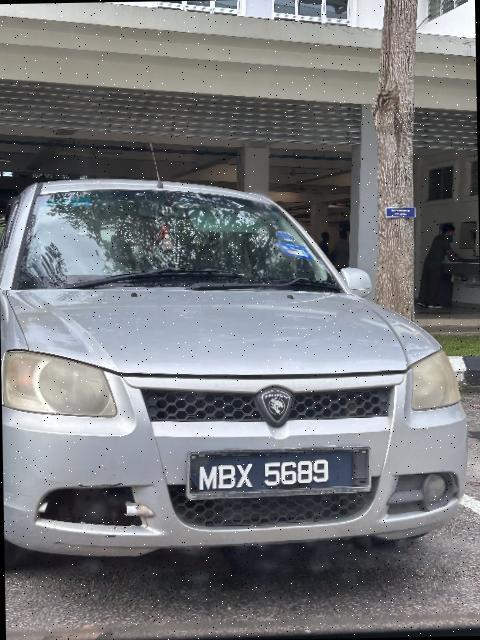License_Plate: (180, 447, 375, 499)
MBX5689: (180, 447, 375, 499)
car: (6, 168, 471, 569)
